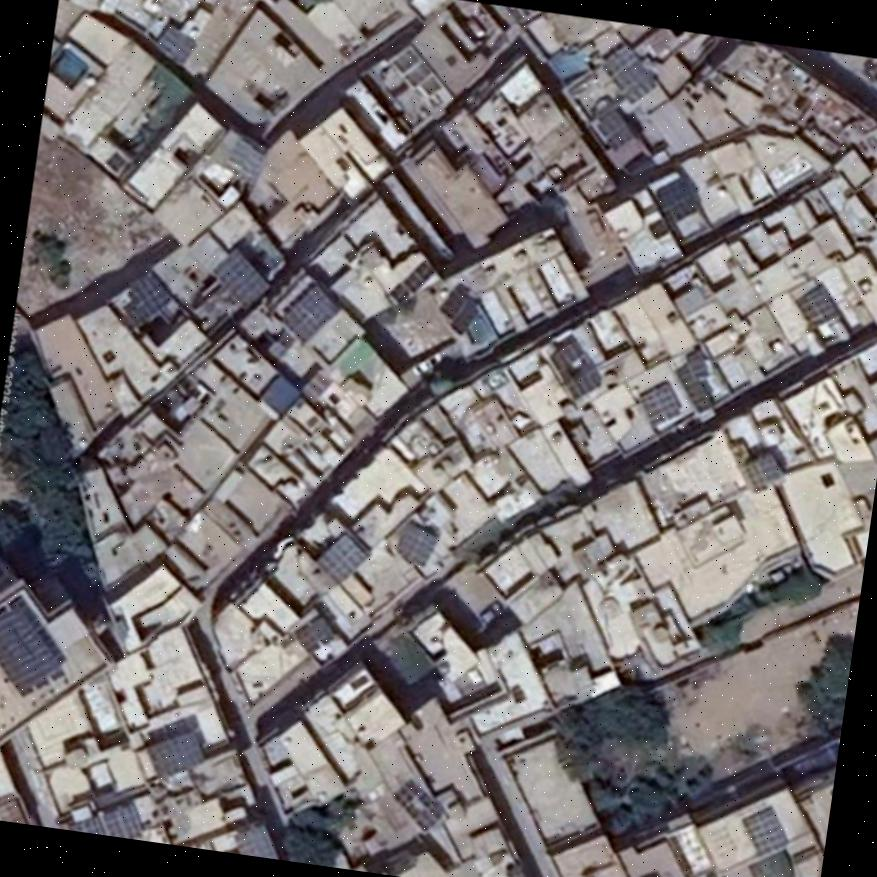Solarpanel: (0, 608, 57, 692), (214, 248, 268, 305), (61, 801, 142, 839), (601, 44, 654, 102), (112, 271, 168, 324), (283, 284, 336, 338), (147, 734, 204, 776), (317, 534, 369, 580), (439, 283, 478, 334), (742, 807, 785, 852), (389, 261, 435, 303), (674, 361, 713, 410), (655, 177, 698, 220), (397, 521, 438, 564), (594, 108, 635, 150), (402, 790, 442, 830), (796, 286, 837, 323), (640, 383, 678, 422), (684, 351, 708, 379)
